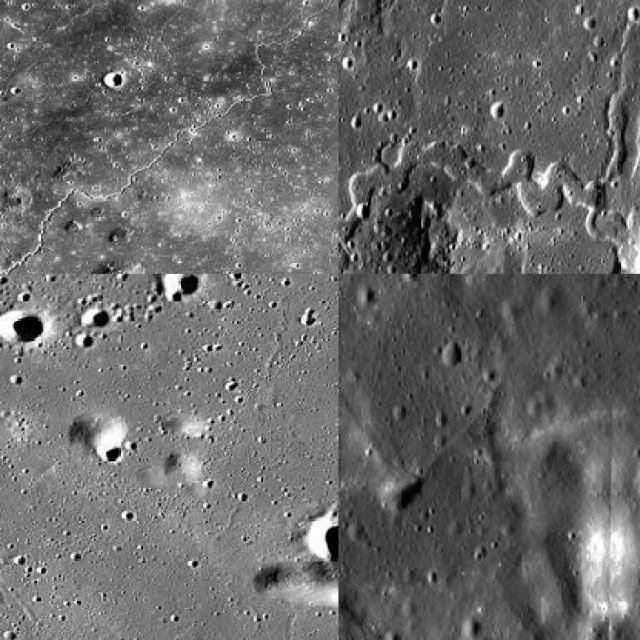rille: (0, 0, 337, 272), (338, 0, 638, 272), (99, 278, 318, 638), (339, 352, 506, 637), (6, 86, 102, 146)
